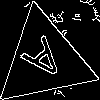A: (19, 35, 74, 92)
